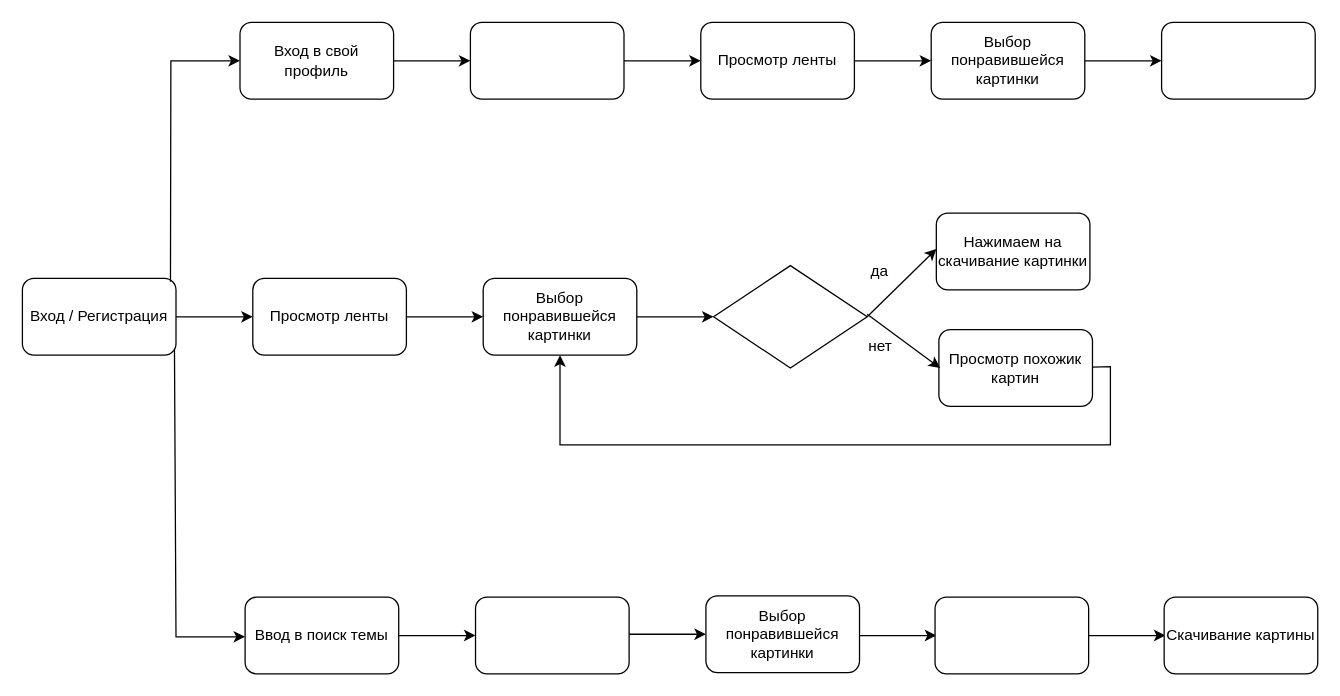
This 1340x696 diagram has some shape labels left out. Each missing label, with the centre of its shape:
"Добавление картинки на свою доску" goes at (x=1237, y=60).
"Просмотр комментариев" goes at (x=1011, y=635).
"Просмотр результатов" goes at (x=551, y=635).
"Создание группы (доски)" goes at (x=546, y=60).
"Это окончательная картинка?" goes at (x=789, y=316).
